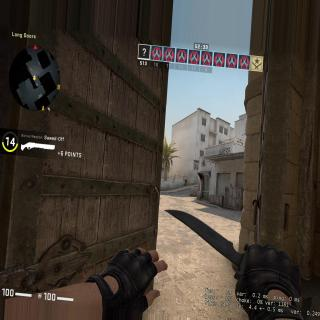CT-Body: (184, 178, 186, 186)
CT-Head: (184, 179, 186, 180)
